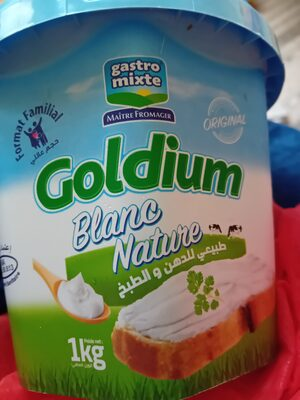Goldium Blanc Nature: (15, 20, 285, 380)
